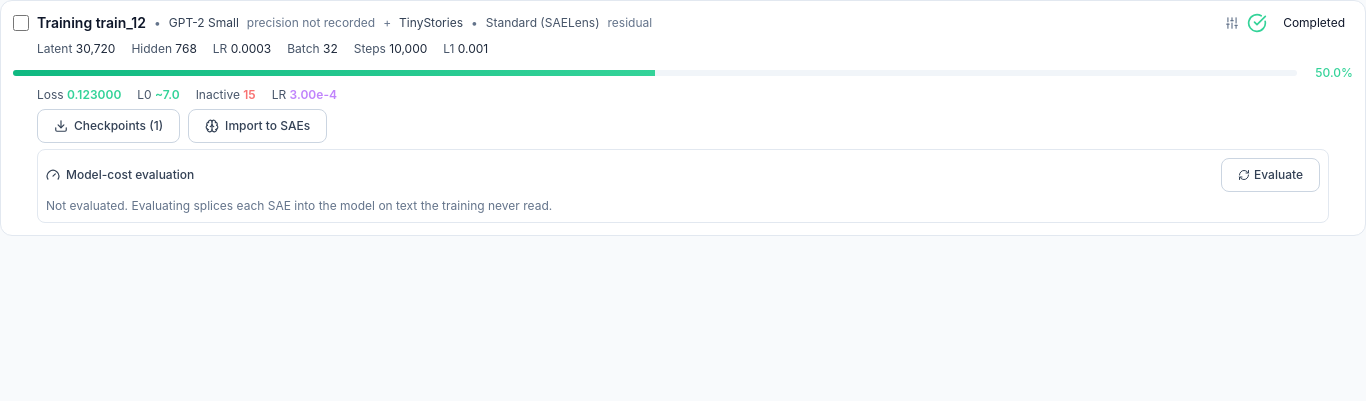
TrainingCard › L0 is shown as a feature count, never a raw fraction › does not hide the L0 label when a checkpoint is genuinely dead
Click the button "Checkpoints (1)": (109, 126) left=37, top=109, right=180, bottom=143
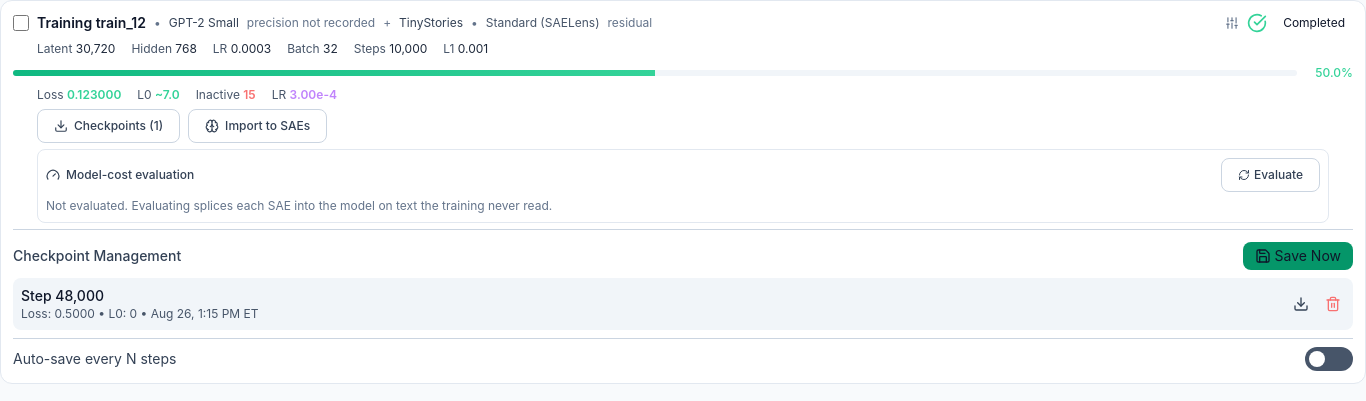
Now the text "Loss: 0.5000 • L0: 0 • Aug 26, 1:15 PM ET" is shown, box left=21, top=306, right=258, bottom=322
